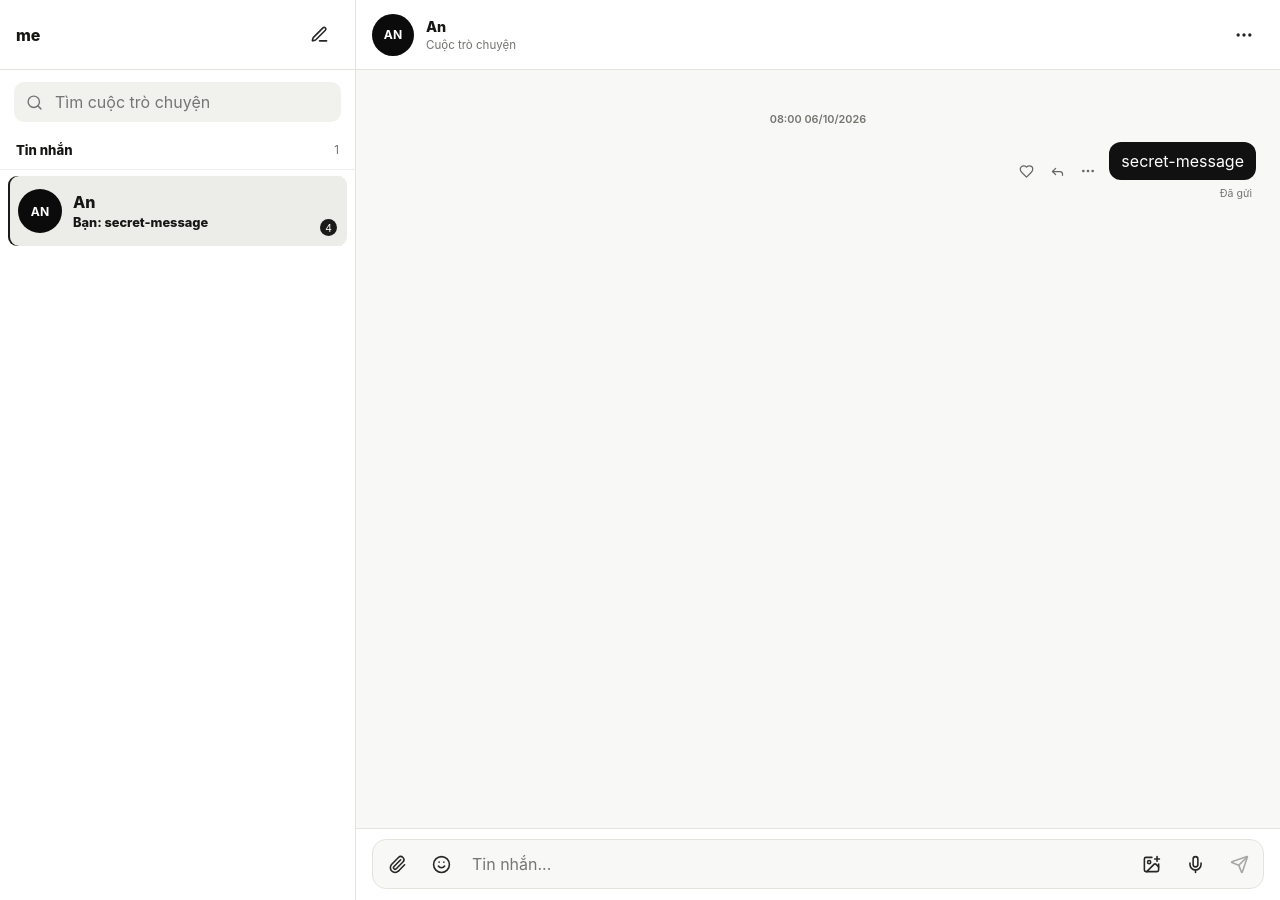
full message action parity › pins and unpins through the shared menu with confirmed collection results
Check: the text "secret-message" is shown, box left=1121, top=151, right=1244, bottom=171
Click the button named "Thao tác khác": (1088, 171) left=1073, top=156, right=1103, bottom=186
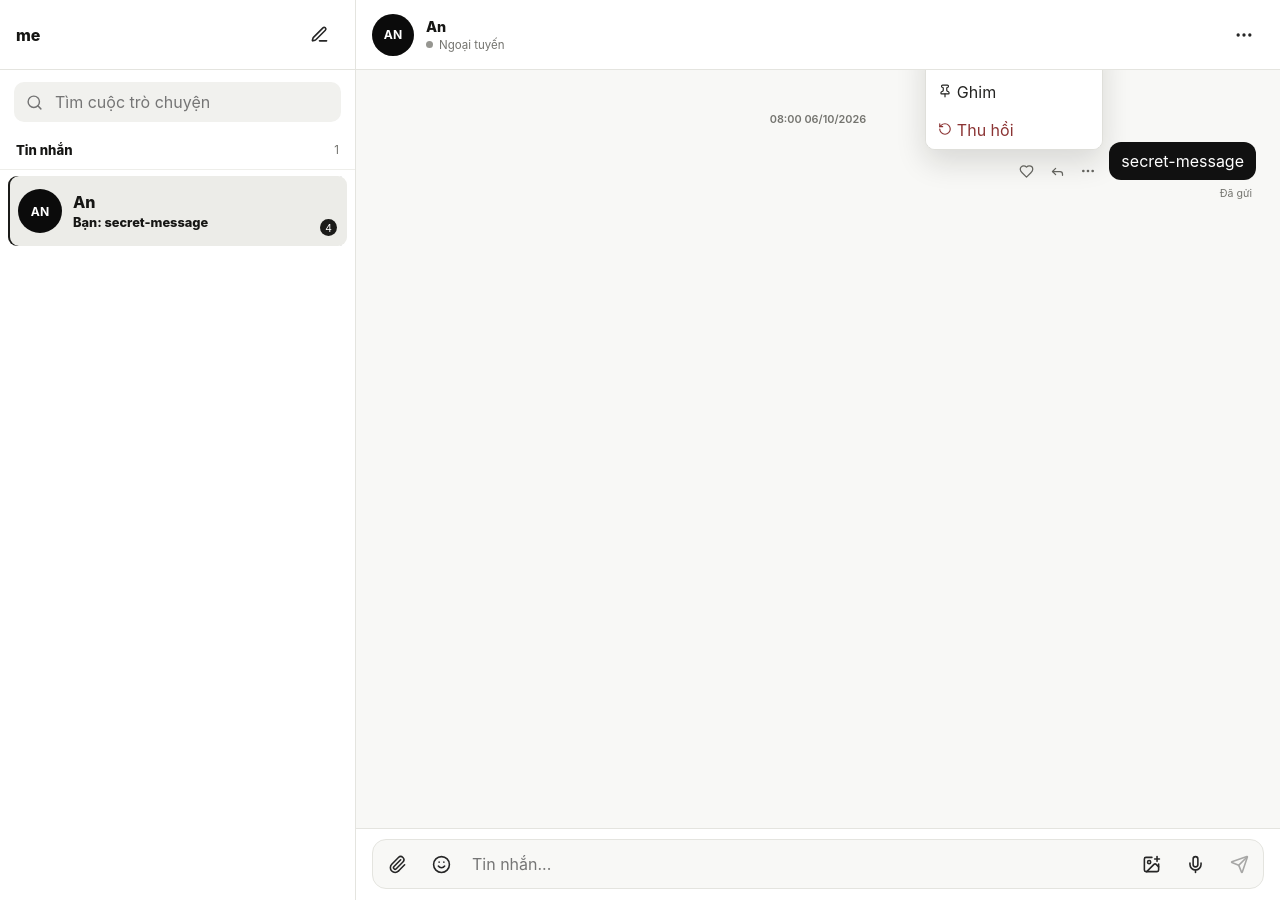
Click the menu item "Ghim": (1014, 92) left=926, top=73, right=1102, bottom=111
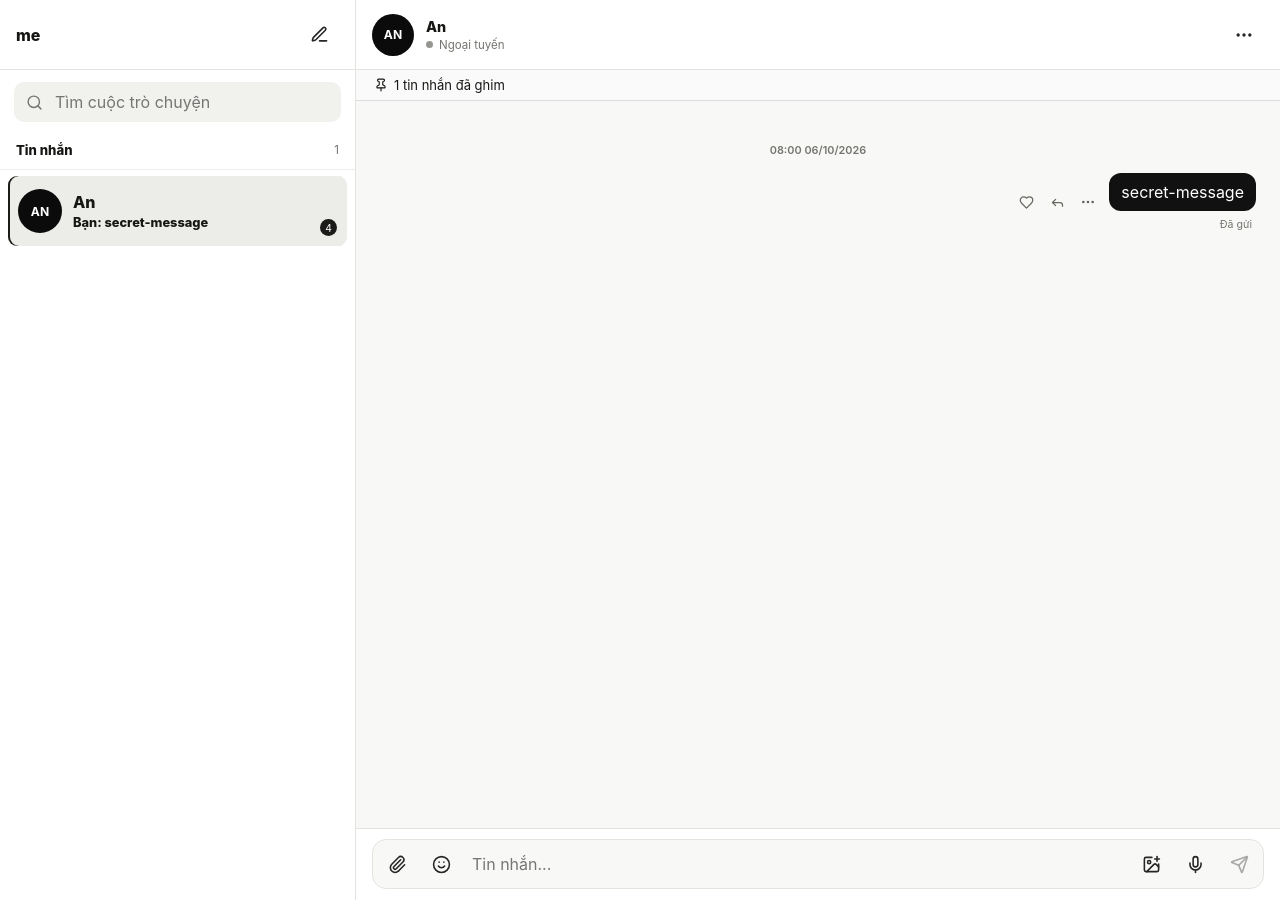
Check: the button "1 tin nhắn đã ghim" is shown, box left=368, top=76, right=511, bottom=94
Click the button named "Thao tác khác": (1088, 202) left=1073, top=187, right=1103, bottom=217
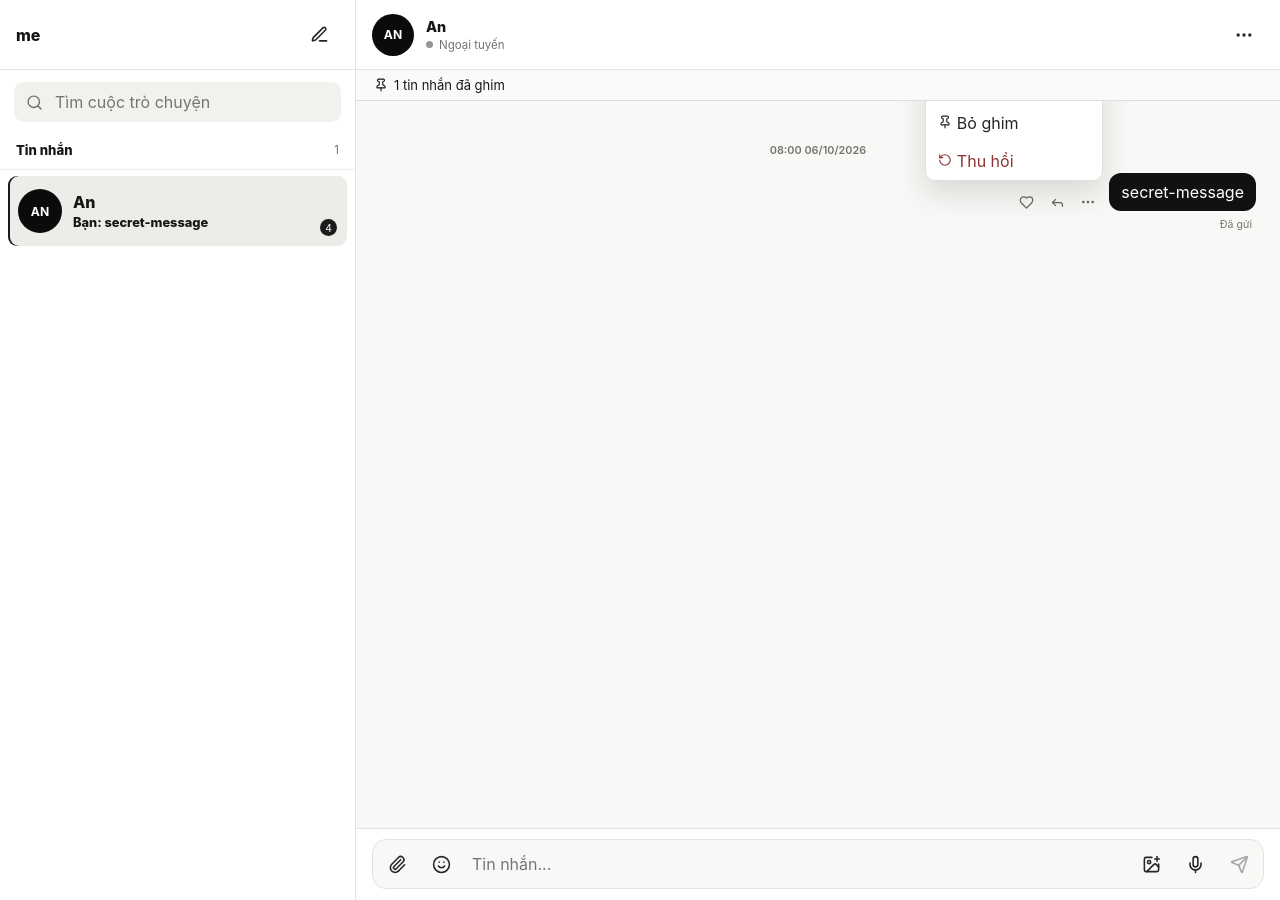
Click the menu item "Bỏ ghim": (1014, 123) left=926, top=104, right=1102, bottom=142
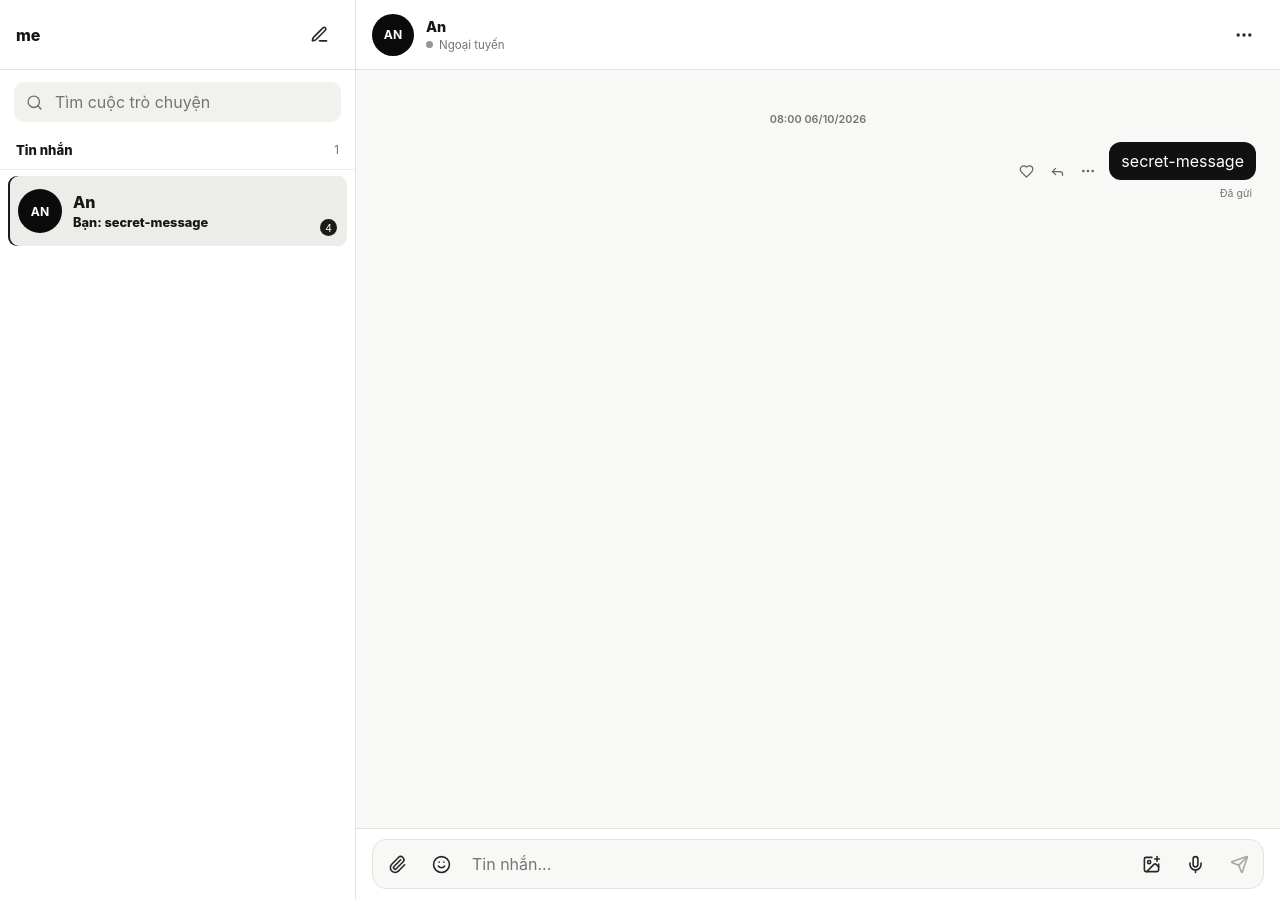
Check: the button "1 tin nhắn đã ghim" is gone
